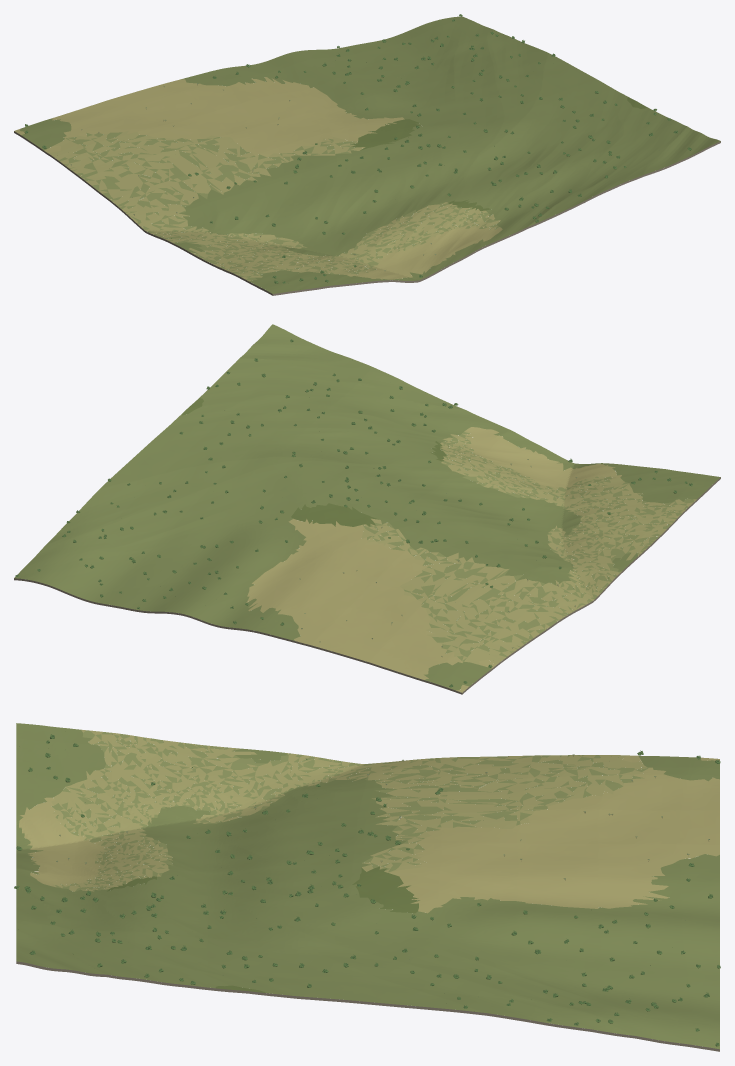
The model's file is parca_+2_-5-yakin.glb.
3 views of the same model, one above another, from view 1: azimuth 30°, elevation 25°; view 2: azimuth 150°, elevation 25°; view 3: azimuth 270°, elevation 25° (orthographic). The views are drawn at different scales.
Visible parts, largest first — view 1: parca_+2_-5_arazi, parca_+2_-5_bitkiler; view 2: parca_+2_-5_arazi, parca_+2_-5_bitkiler; view 3: parca_+2_-5_arazi, parca_+2_-5_bitkiler.
Boxes of the visible parts, x1,y1,x2,y2 form: parca_+2_-5_arazi: (14,16,720,295); parca_+2_-5_bitkiler: (24,14,691,283); parca_+2_-5_arazi: (14,324,720,694); parca_+2_-5_bitkiler: (15,339,692,687); parca_+2_-5_arazi: (16,723,719,1051); parca_+2_-5_bitkiler: (14,734,720,1046).
Bounding box in the file's own units: 1003 × 161 × 1004.
